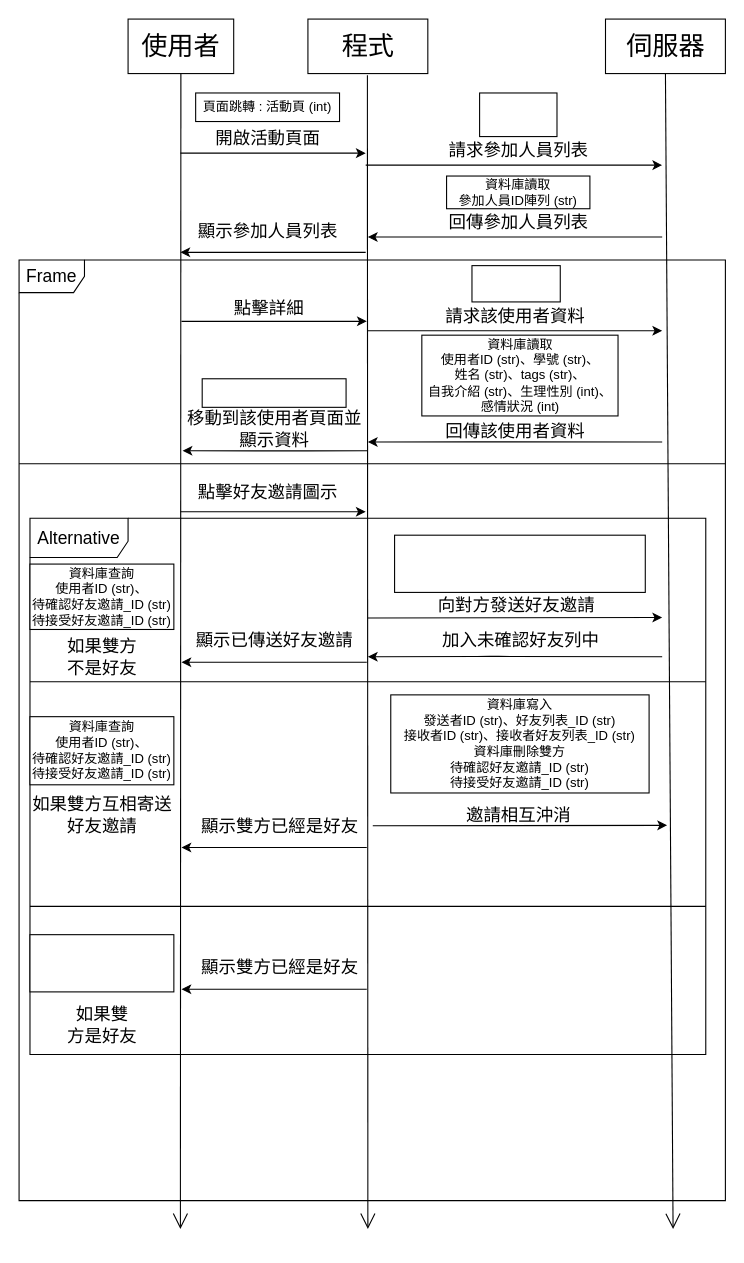
Some shapes in this 744 by 1263 pixel diagram are drawn without their labels. Each missing label, with the centre of its shape:
"資料庫寫入 發送者ID (str)、待確認好友邀請_ID (str)、 接收者ID (str)、待接受好友邀請_ID (str)、" belongs at [519,563].
"資料庫查詢 使用者ID (str)" belongs at [515,283].
"資料庫查詢 使用者ID (str)、 好友列表_ID (str)" belongs at [101,963].
"資料庫查詢 活動ID (str)" belongs at [518,114].
"頁面跳轉 : 詳細頁 (int)" belongs at [273,392].
